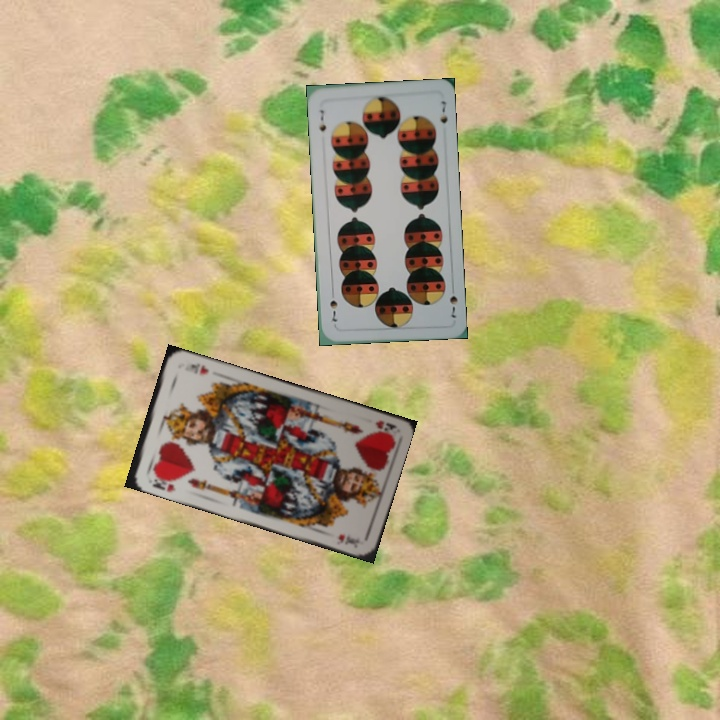HK: (148, 470, 179, 495), (372, 416, 398, 438)
S7: (446, 282, 460, 320), (315, 106, 328, 134)
